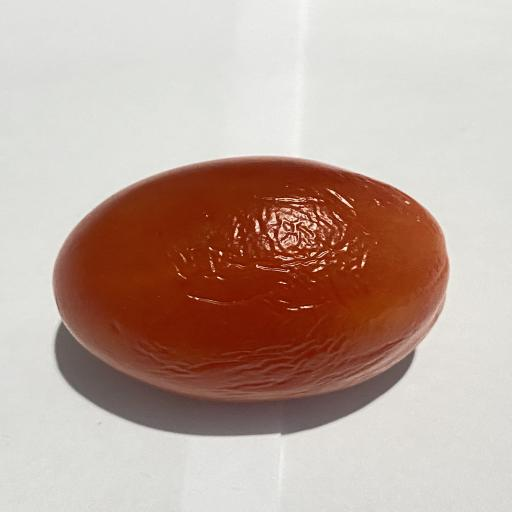spoiled: (54, 157, 448, 401)
